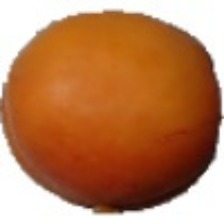apricot: (32, 24, 224, 194)
